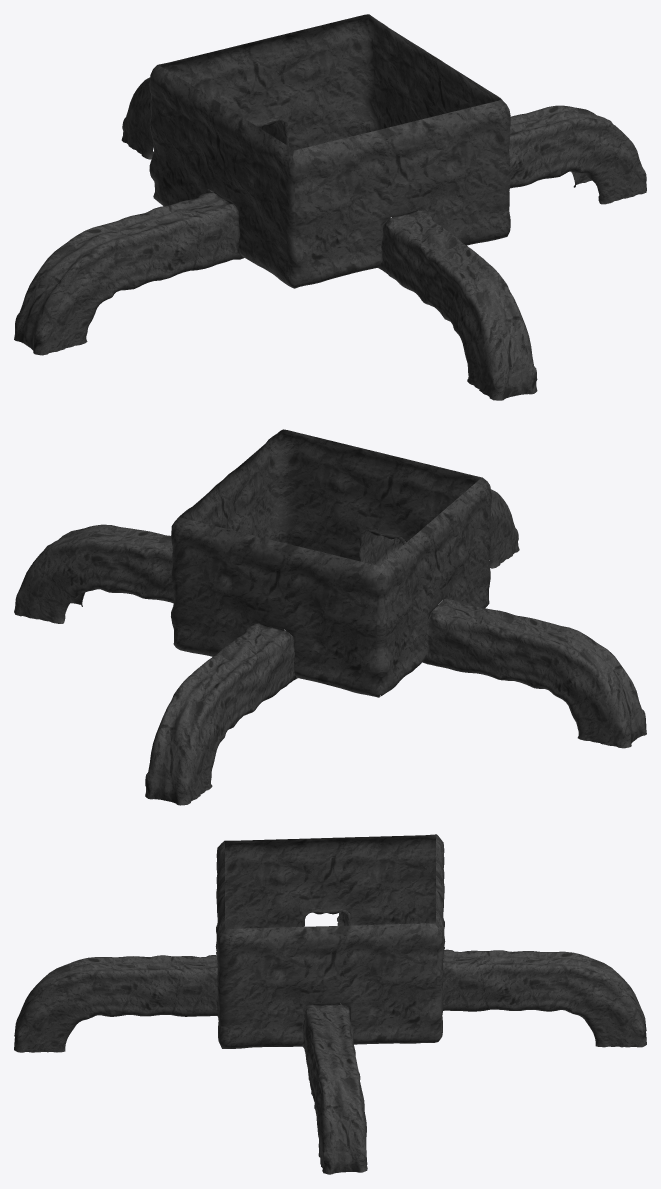
File: StandardWall_003.FBX
3 views of the same model, one above another, from view 1: azimuth 30°, elevation 25°; view 2: azimuth 150°, elevation 25°; view 3: azimuth 270°, elevation 25° (orthographic). The views are drawn at different scales.
Parts seen in each view (by area): view 1: Object010; view 2: Object010; view 3: Object010.
Part boxes in pixels (x1,y1,x2,y2): Object010: (14, 14, 646, 400); Object010: (14, 429, 646, 805); Object010: (14, 834, 646, 1174).
Size of the model in its own units: 5573 by 1551 by 5587.
